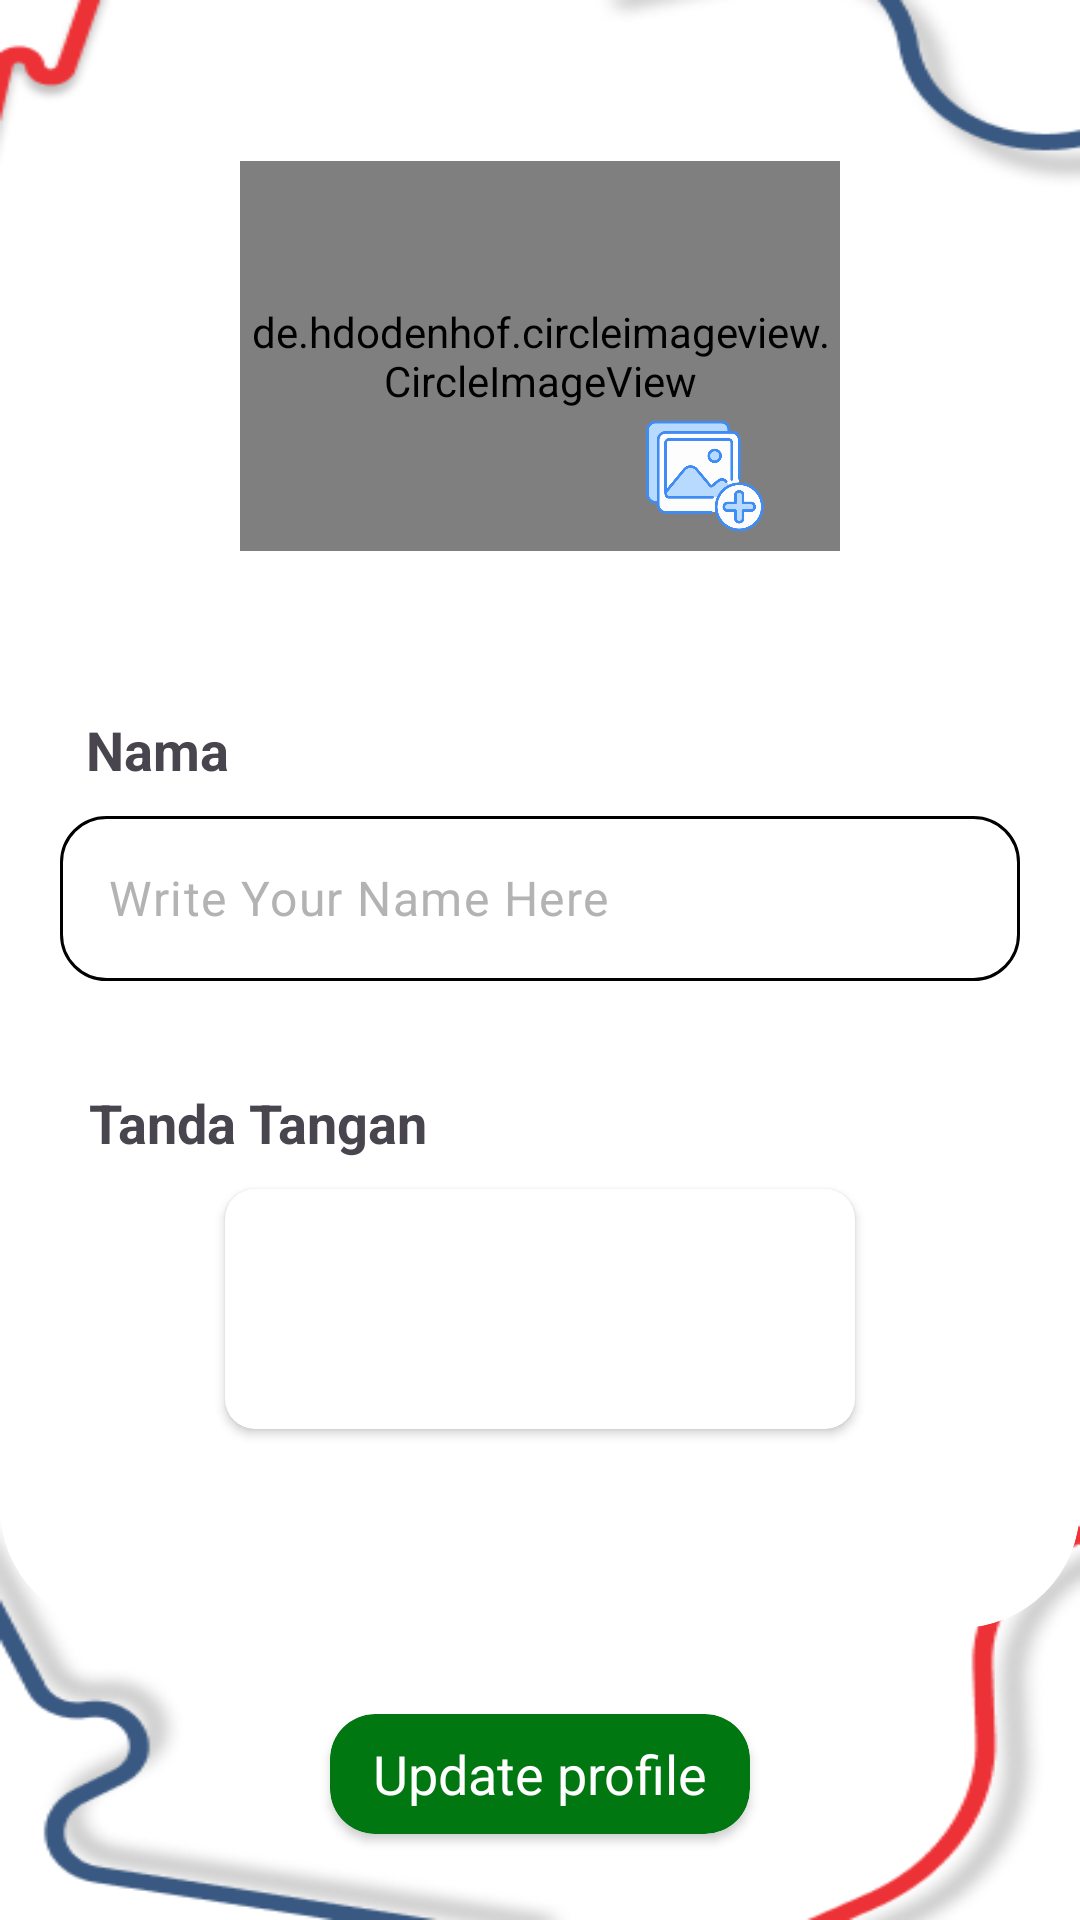

Named icons in this screenshot (1080x1920) and their centers, point (x, y):
add galeri: point (705, 476)
